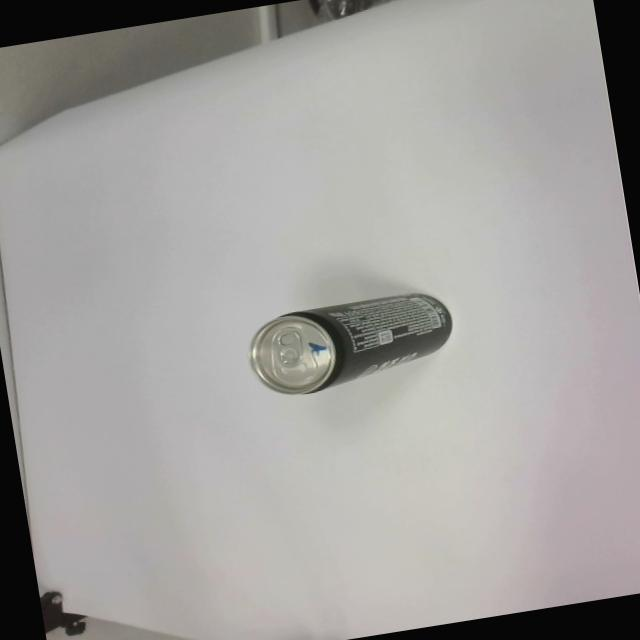debris: (242, 285, 460, 402)
